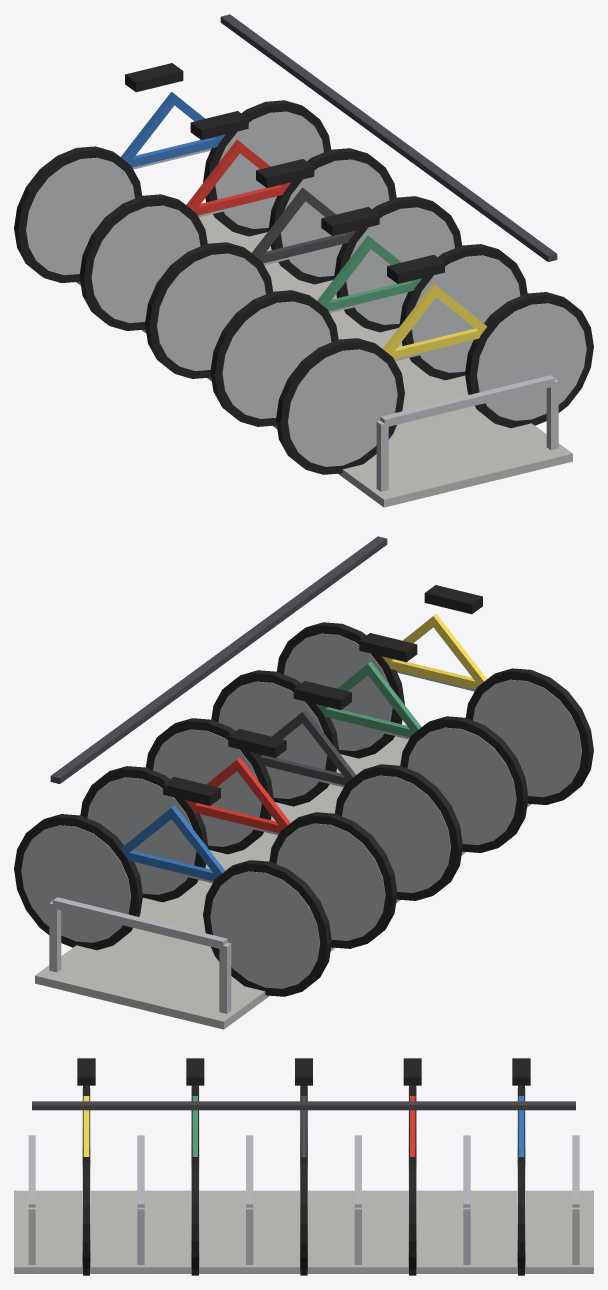
File: SM_Prop_BikeRack.glb
3 views of the same model, one above another, from view 1: azimuth 30°, elevation 25°; view 2: azimuth 150°, elevation 25°; view 3: azimuth 270°, elevation 25° (orthographic). The views are drawn at different scales.
Parts seen in each view (by area): view 1: SM_Prop_BikeRack; view 2: SM_Prop_BikeRack; view 3: SM_Prop_BikeRack.
Part boxes in pixels (left/top/right/bottom): SM_Prop_BikeRack: left=14, top=14, right=593, bottom=507; SM_Prop_BikeRack: left=14, top=536, right=593, bottom=1029; SM_Prop_BikeRack: left=14, top=1058, right=593, bottom=1275.
Size of the model in its own units: 1.66 by 1.01 by 3.2.
